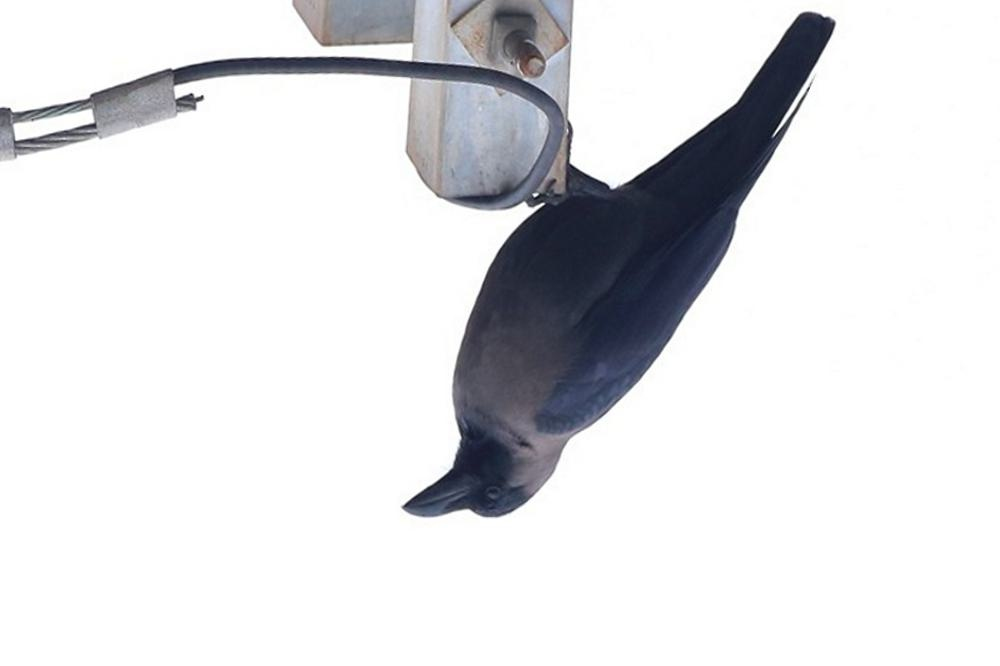crow: (399, 1, 877, 525)
